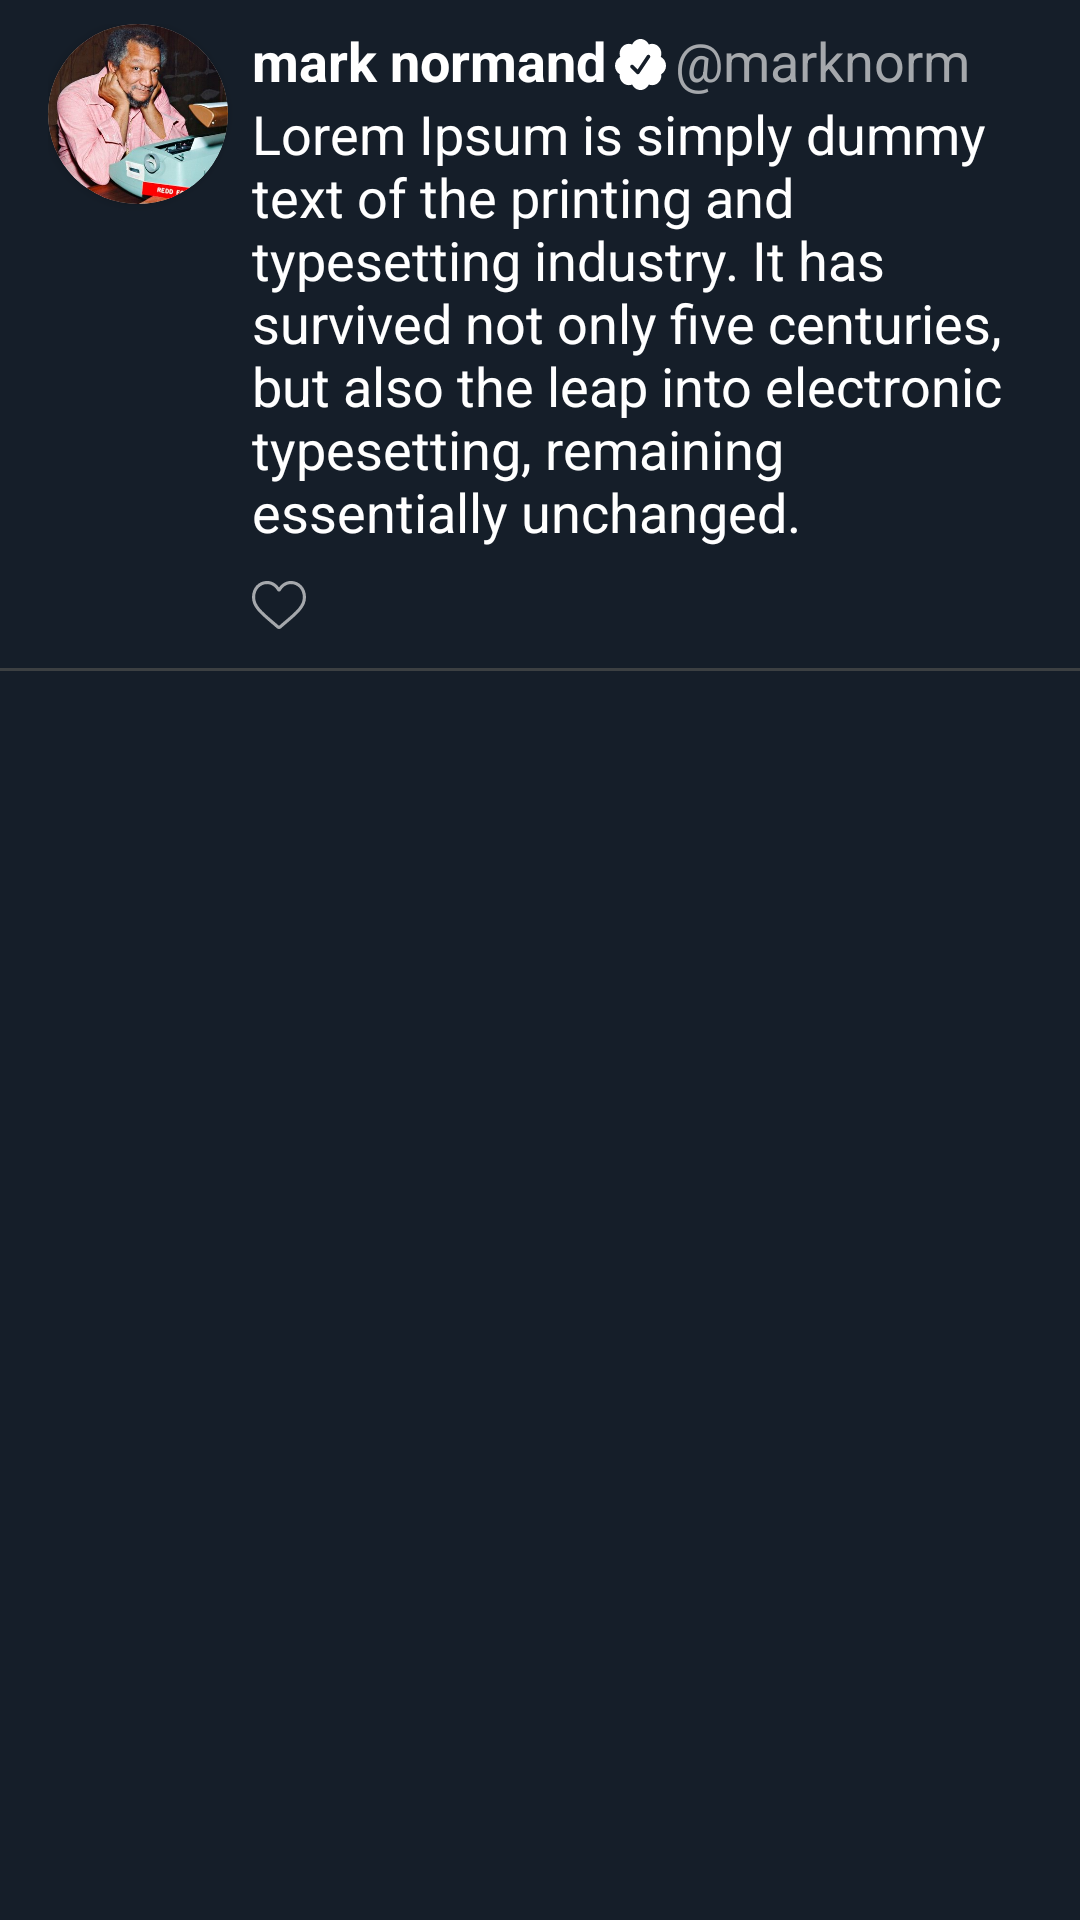

Locate icon controls on the screen. Image size 1080*1920, boxes as bbox(x1, y1, x2, y2).
comedian profile: bbox(48, 24, 228, 204)
heart: bbox(252, 581, 306, 629)
